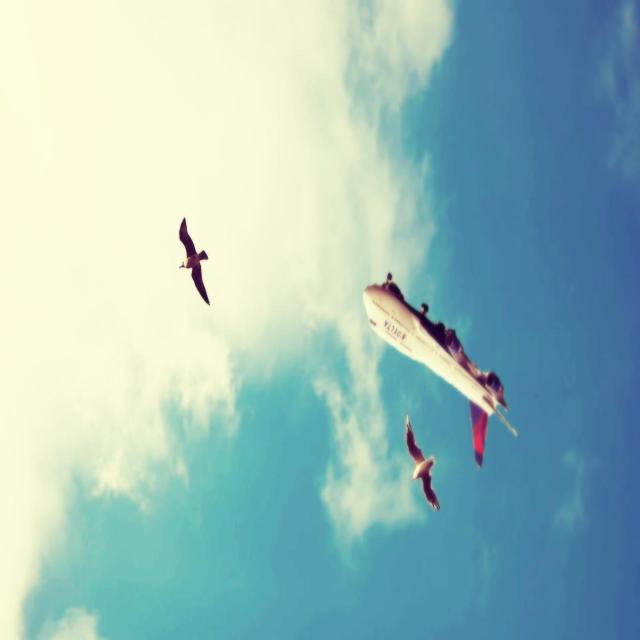airplane: (362, 271, 518, 467)
